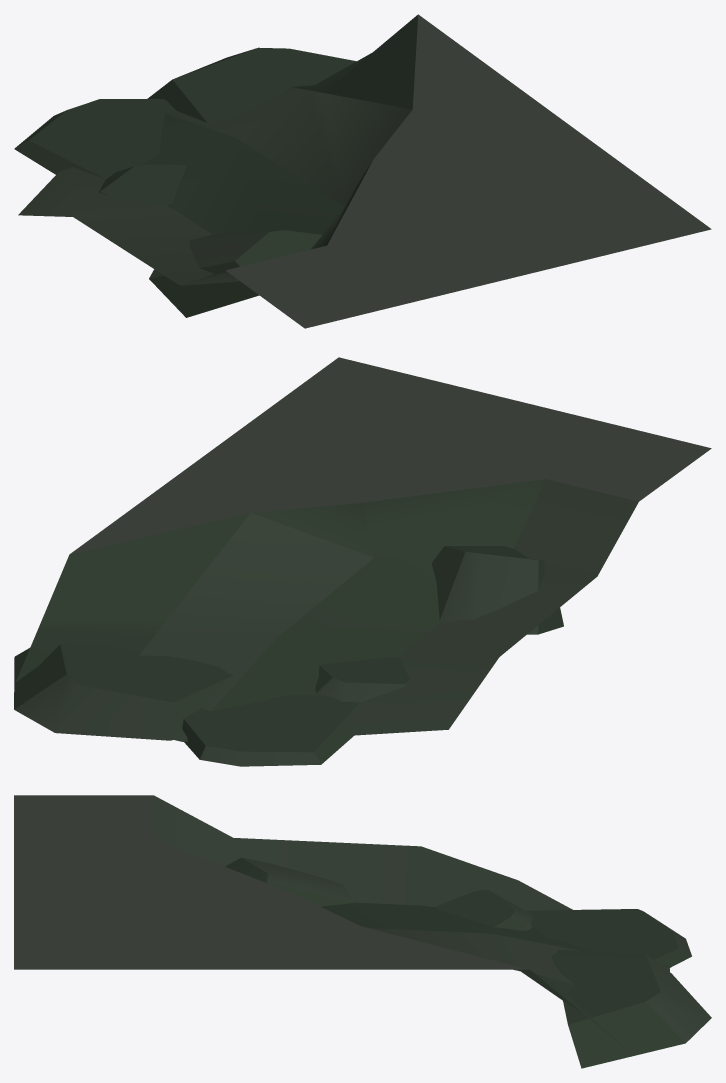
File: SF_Env_River_Slope_01.glb
3 views of the same model, one above another, from view 1: azimuth 30°, elevation 25°; view 2: azimuth 150°, elevation 25°; view 3: azimuth 270°, elevation 25° (orthographic). The views are drawn at different scales.
Parts seen in each view (by area): view 1: SF_Env_River_Slope_01; view 2: SF_Env_River_Slope_01; view 3: SF_Env_River_Slope_01.
Boxes of the visible parts, x1=… form: SF_Env_River_Slope_01: x1=14, y1=14, x2=711, y2=328; SF_Env_River_Slope_01: x1=14, y1=357, x2=711, y2=766; SF_Env_River_Slope_01: x1=14, y1=795, x2=711, y2=1068.
Size of the model in its own units: 0.1075 by 0.0233 by 0.1691.
Materials: 1 (1 with a texture image).
